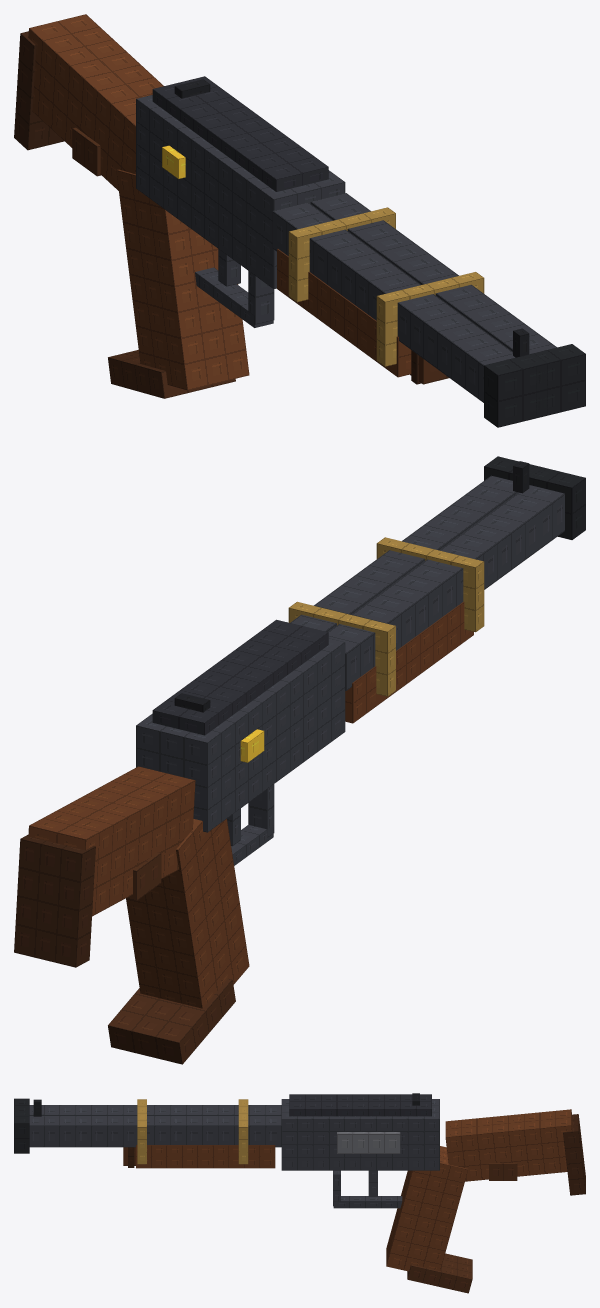
3 views of the same model, one above another, from view 1: azimuth 30°, elevation 25°; view 2: azimuth 150°, elevation 25°; view 3: azimuth 270°, elevation 25° (orthographic). The views are drawn at different scales.
Parts seen in each view (by area): view 1: W13; view 2: W13; view 3: W13.
Boxes of the visible parts, x1=… form: W13: x1=14, y1=14, x2=585, y2=427; W13: x1=14, y1=456, x2=585, y2=1064; W13: x1=14, y1=1093, x2=585, y2=1293.
Size of the model in its own units: 0.416 by 1.3 by 3.61.
1 material, 1 textured.
